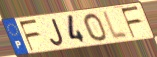4: (67, 14, 88, 46)
F: (18, 18, 42, 53), (120, 5, 143, 39)
J: (49, 17, 65, 47)
L: (101, 9, 130, 41)
O: (82, 12, 108, 42)
